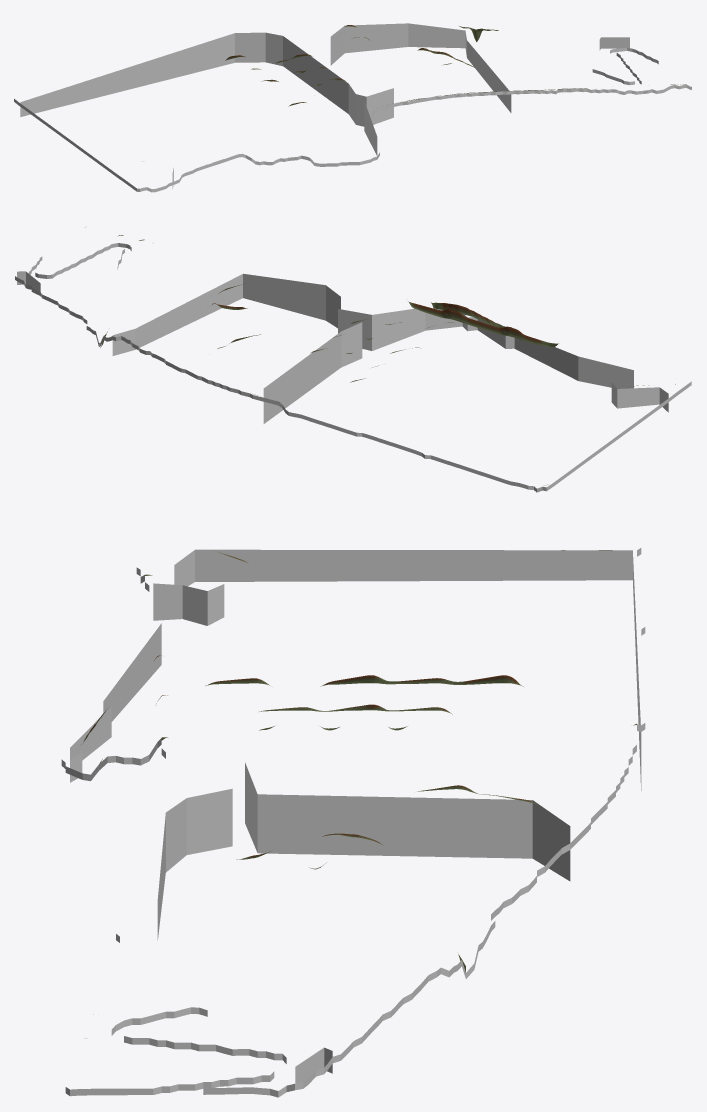
File: building.glb
3 views of the same model, one above another, from view 1: azimuth 30°, elevation 25°; view 2: azimuth 150°, elevation 25°; view 3: azimuth 270°, elevation 25° (orthographic). The views are drawn at different scales.
Visible parts, largest first — view 1: walls, fascia, roof; view 2: walls, fascia, roof; view 3: walls, fascia, roof.
Boxes of the visible parts, x1,y1,x2,y2 form: walls: [20, 23, 629, 188]; fascia: [14, 47, 691, 192]; roof: [225, 25, 686, 106]; walls: [17, 271, 668, 423]; fascia: [15, 243, 691, 492]; roof: [85, 227, 675, 485]; walls: [70, 549, 641, 1083]; fascia: [61, 548, 645, 1097]; roof: [81, 550, 636, 1038].
Size of the model in its own units: 596 by 42.93 by 280.
